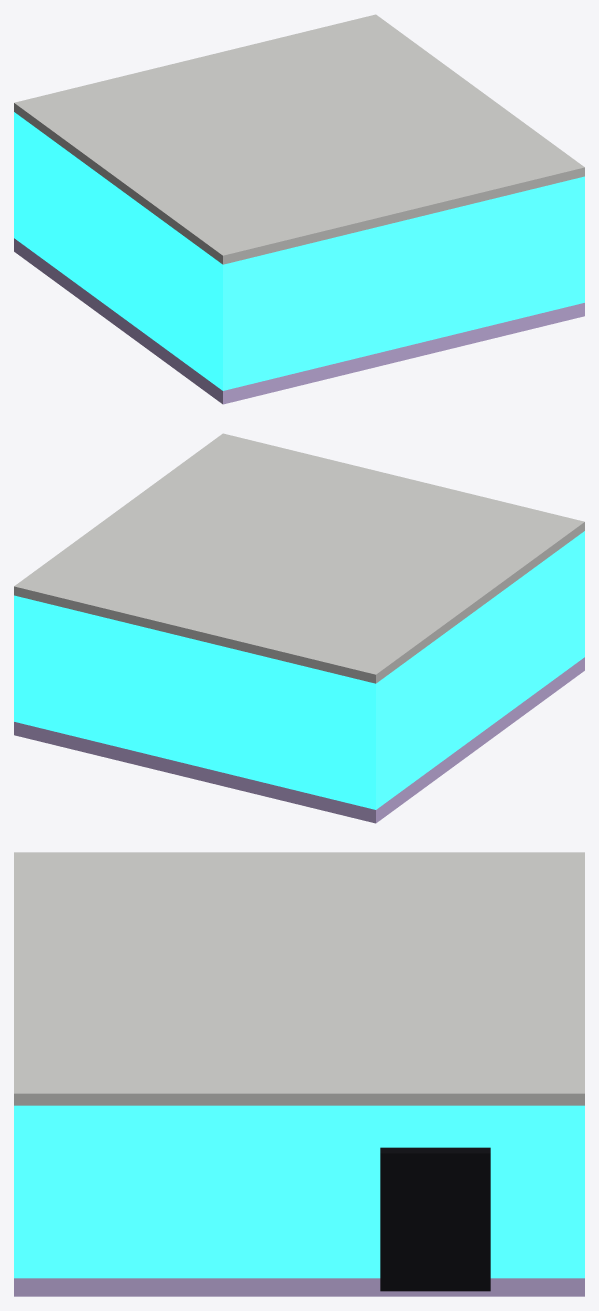
The model's file is rdwe_kids_bedroom.glb.
3 renders of one model, top to bottom at view 1: azimuth 30°, elevation 25°; view 2: azimuth 150°, elevation 25°; view 3: azimuth 270°, elevation 25°, orthographic. The views are drawn at different scales.
Parts seen in each view (by area): view 1: Room_Ceiling, Room_Wall_S_1, Room_Wall_W_1, Room_Floor, Room_Wall_N_1; view 2: Room_Ceiling, Room_Wall_N_1, Room_Wall_W_1, Room_Floor, Room_Wall_S_1; view 3: Room_Ceiling, Room_Wall_E_3, Beyond_closet, Room_Wall_E_1, Room_Floor, Room_Wall_E_2, Room_Wall_N_1, Room_Wall_S_1.
Boxes of the visible parts, <box> form: Room_Ceiling: <box>14,14,584,264</box>; Room_Wall_S_1: <box>218,176,584,390</box>; Room_Wall_W_1: <box>19,115,217,386</box>; Room_Floor: <box>14,238,584,404</box>; Room_Wall_N_1: <box>14,112,18,241</box>; Room_Ceiling: <box>14,433,584,683</box>; Room_Wall_N_1: <box>14,595,380,809</box>; Room_Wall_W_1: <box>381,534,579,805</box>; Room_Floor: <box>14,657,584,823</box>; Room_Wall_S_1: <box>580,531,584,660</box>; Room_Ceiling: <box>14,852,584,1105</box>; Room_Wall_E_3: <box>27,1105,395,1278</box>; Beyond_closet: <box>380,1147,490,1291</box>; Room_Wall_E_1: <box>475,1105,571,1278</box>; Room_Floor: <box>14,1278,584,1296</box>; Room_Wall_E_2: <box>396,1105,474,1147</box>; Room_Wall_N_1: <box>571,1105,584,1278</box>; Room_Wall_S_1: <box>14,1105,27,1278</box>.
Bounding box in the file's own units: 8.75 × 3.3 × 8.4.
